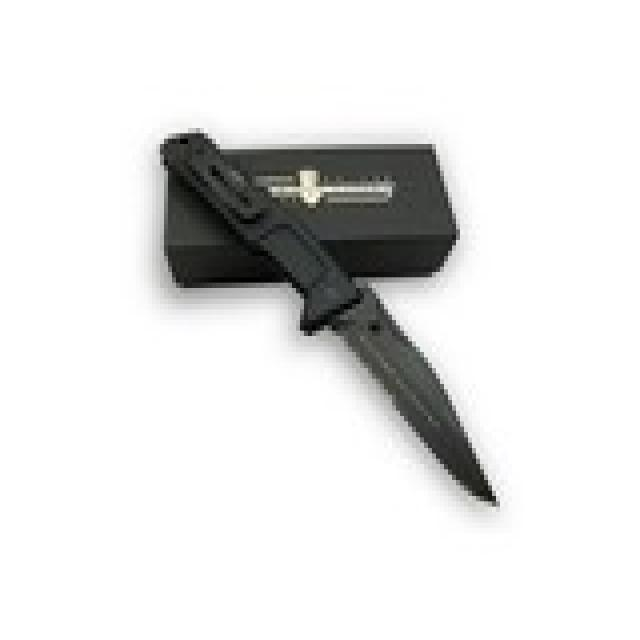Knife: (144, 127, 502, 506)
